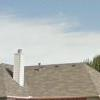Chimney: (11, 43, 29, 86)
